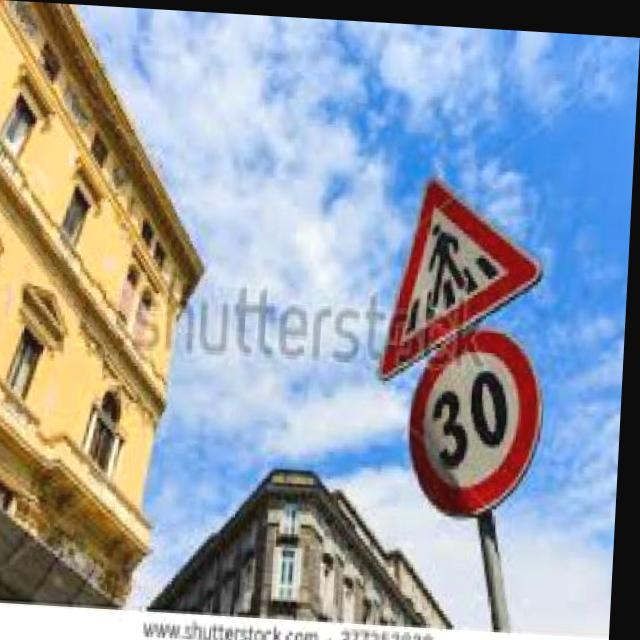Speed limit 30: (406, 316, 552, 517)
